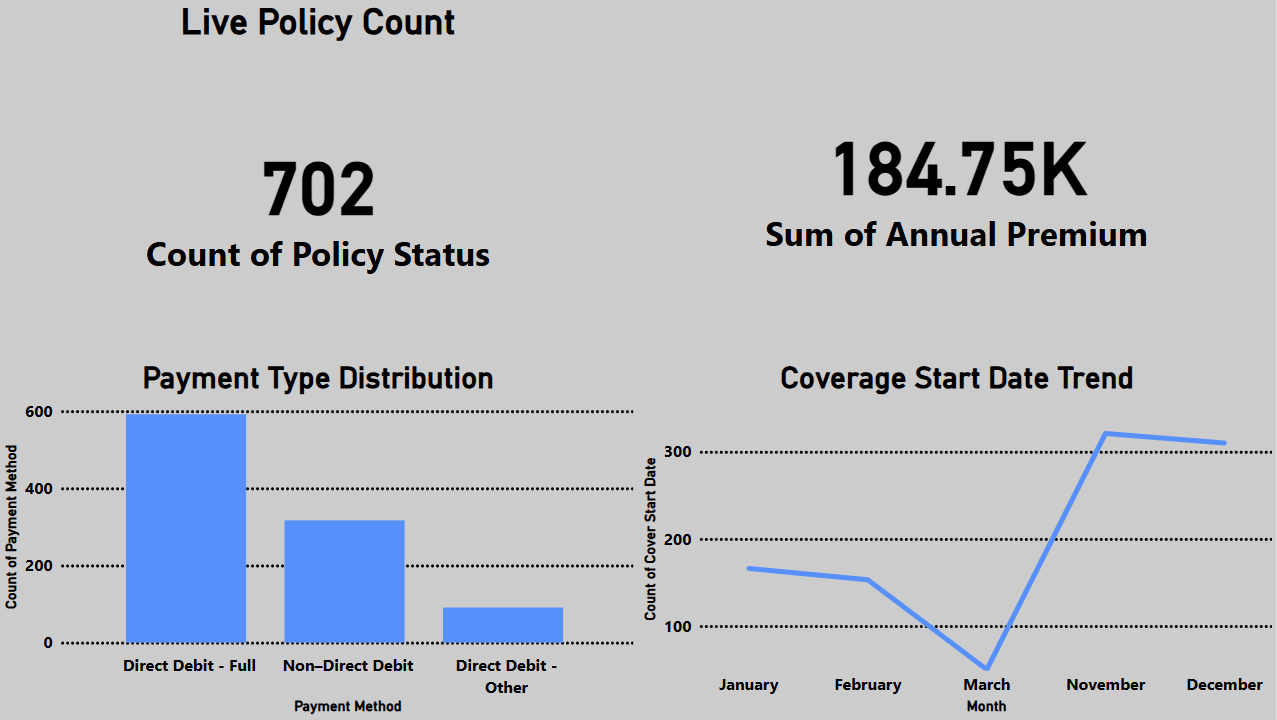

This screenshot's page, from the dashboard's own definition file:
{"tool":"powerbi","page":{"name":"POLICY OVERVIEW","canvas":[1280,720],"ordinal":1},"visuals":[{"type":"clusteredColumnChart","title":"Payment Type Distribution","fields":{"Category":["sql_cleaned_home_insurance.Payment Method"],"Y":["CountNonNull(sql_cleaned_home_insurance.Payment Method)"]},"box":[0,359.7,640.5,359.7],"z":0},{"type":"lineChart","title":"Coverage Start Date Trend","fields":{"Category":["sql_cleaned_home_insurance.Cover Start Date.Variation.Date Hierarchy.Year","sql_cleaned_home_insurance.Cover Start Date.Variation.Date Hierarchy.Quarter","sql_cleaned_home_insurance.Cover Start Date.Variation.Date Hierarchy.Month"],"Y":["CountNonNull(sql_cleaned_home_insurance.Cover Start Date)"]},"box":[638.8,359.7,640.5,359.7],"z":1000},{"type":"card","title":"Live Policy Count","fields":{"Values":["CountNonNull(sql_cleaned_home_insurance.Policy Status)"]},"box":[0,0,640.5,359.7],"z":2000},{"type":"card","title":"Live Policy Count","fields":{"Values":["Sum(sql_cleaned_home_insurance.Annual Premium)"]},"box":[638.8,0,640.5,359.7],"z":3000}]}

Visuals, with their boxes in screenshot pixels (x1, y1, x2, y2), scaled from the page's 1280x720 canvas onto the 1277x720 screenshot:
"Payment Type Distribution" clusteredColumnChart: 0/360/639/719
"Coverage Start Date Trend" lineChart: 637/360/1276/719
"Live Policy Count" card: 0/0/639/360
"Live Policy Count" card: 637/0/1276/360
